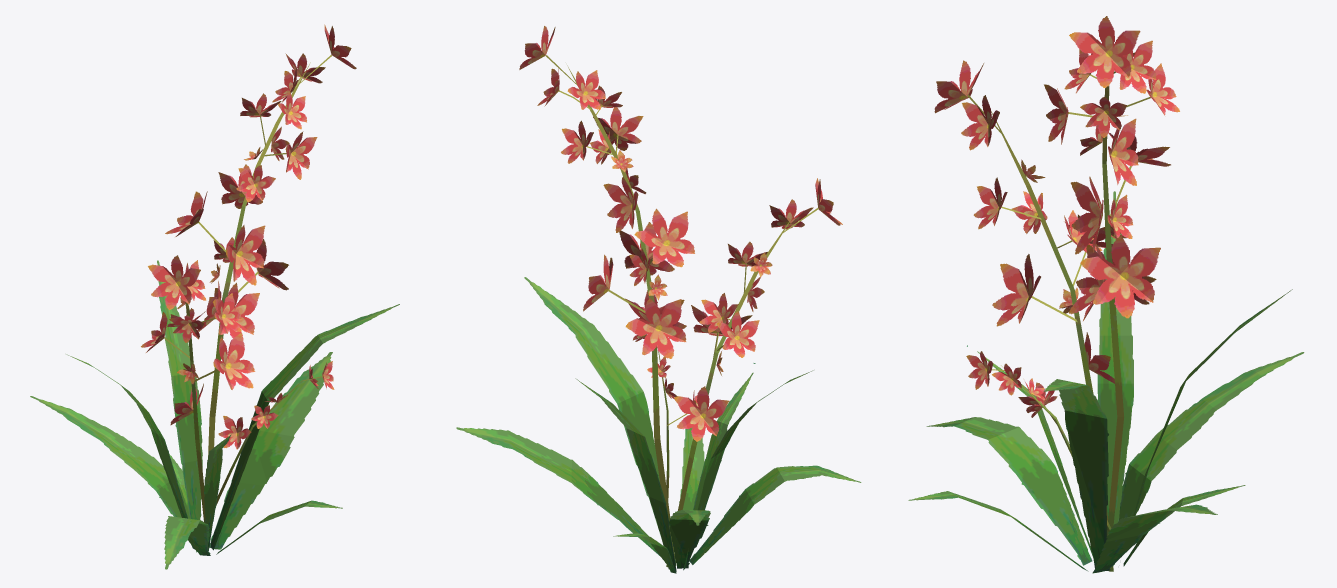
The model's file is gi-Flower_Red_01.glb.
3 renders of one model, left to right at view 1: azimuth 30°, elevation 25°; view 2: azimuth 150°, elevation 25°; view 3: azimuth 270°, elevation 25°, orthographic. The views are drawn at different scales.
Parts seen in each view (by area): view 1: gi-Flower_Red_01; view 2: gi-Flower_Red_01; view 3: gi-Flower_Red_01.
Part boxes in pixels (x1=…): gi-Flower_Red_01: x1=30, y1=24, x2=399, y2=569; gi-Flower_Red_01: x1=456, y1=26, x2=861, y2=573; gi-Flower_Red_01: x1=908, y1=16, x2=1304, y2=573.
Size of the model in its own units: 0.8855 by 1.26 by 0.773.
1 material, 1 textured.
